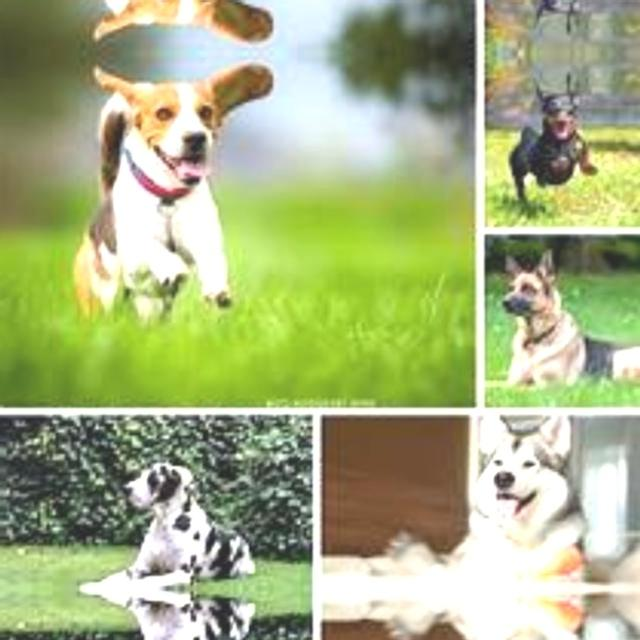dog: (10, 56, 272, 316), (402, 412, 586, 588), (81, 440, 267, 588), (456, 256, 636, 386), (486, 80, 616, 212), (10, 0, 272, 48), (81, 587, 267, 640), (402, 588, 586, 640), (486, 0, 616, 23)
